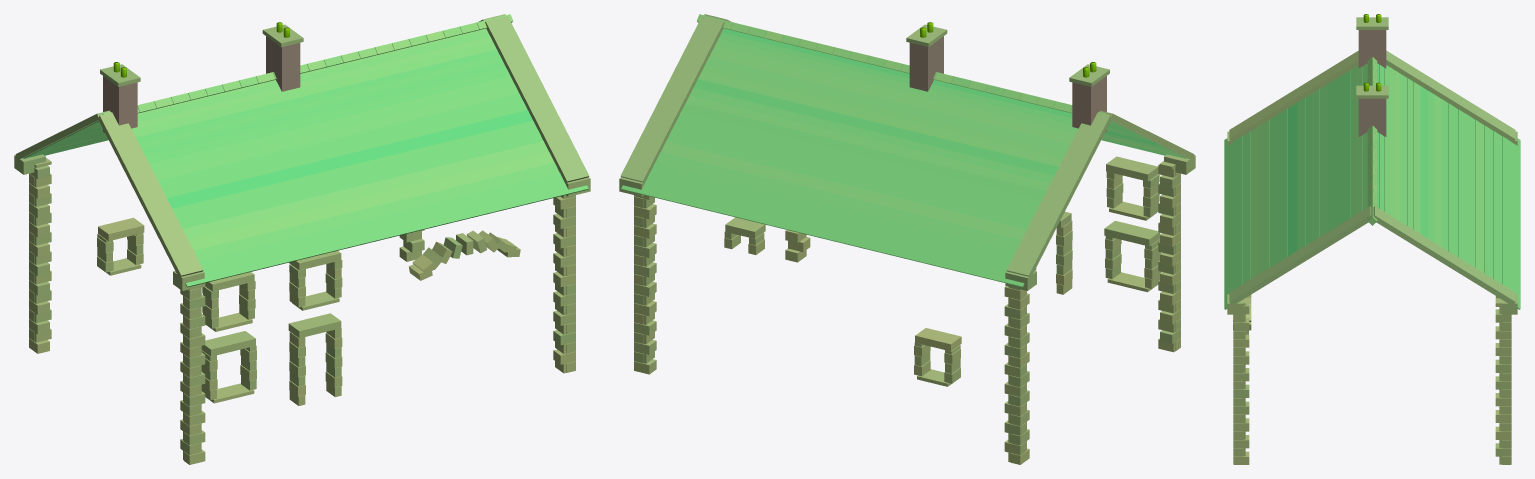
File: SM_Bld_133_Stone.glb
3 renders of one model, left to right at view 1: azimuth 30°, elevation 25°; view 2: azimuth 150°, elevation 25°; view 3: azimuth 270°, elevation 25°, orthographic. The views are drawn at different scales.
Visible parts, largest first — view 1: SM_Bld_133_Stone; view 2: SM_Bld_133_Stone; view 3: SM_Bld_133_Stone.
Boxes of the visible parts, x1=… form: SM_Bld_133_Stone: x1=14, y1=14, x2=590, y2=464; SM_Bld_133_Stone: x1=619, y1=14, x2=1195, y2=464; SM_Bld_133_Stone: x1=1224, y1=14, x2=1520, y2=464.
Bounding box in the file's own units: 13.35 × 10.45 × 9.61.
